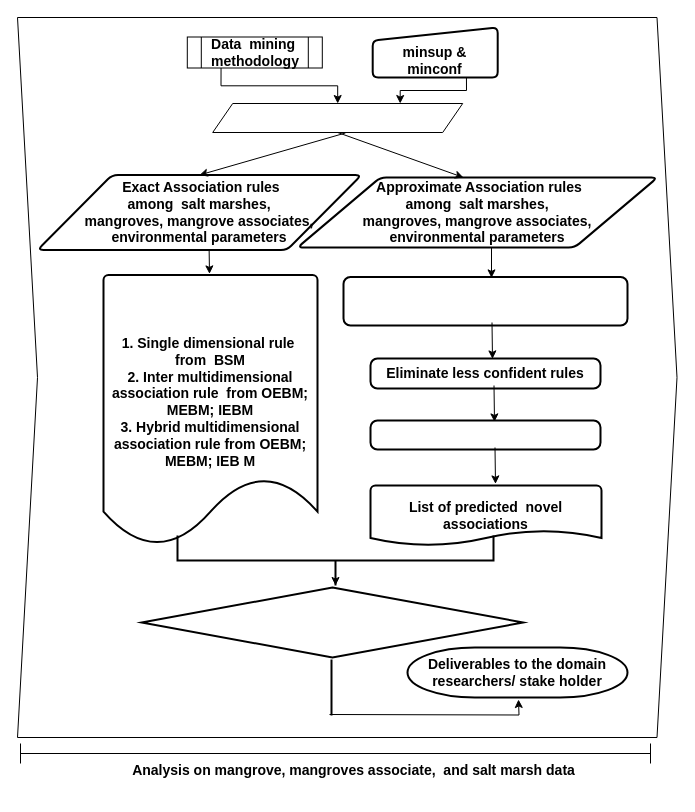
Image size: 695x812. Some labels were removed from this diagram. Here are the shapes that lost their labels. From the top down, the box of each, then its label:
(212, 102, 463, 132): BSM; OEBM; MEBM; IEBM
(342, 275, 628, 326): Histogram for the distribution of confidence level of the approximate rules
(369, 419, 601, 450): Predict new set of associations
(140, 586, 524, 658): Validation from the domain expert's end
